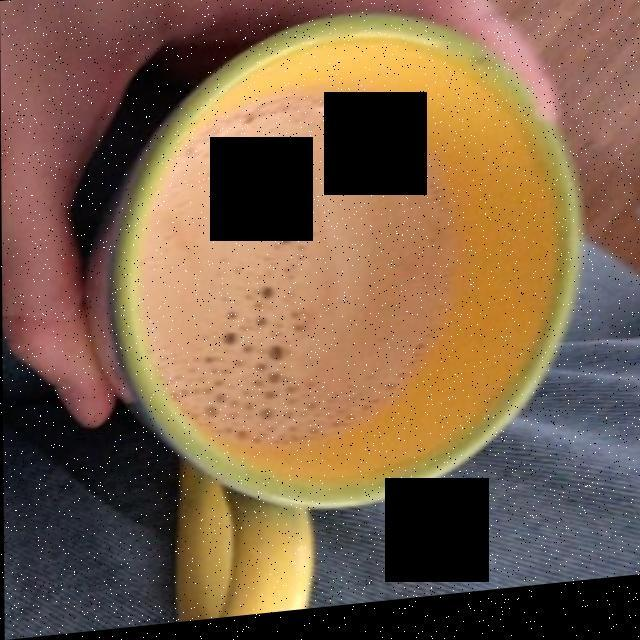coffee: (144, 118, 451, 452)
